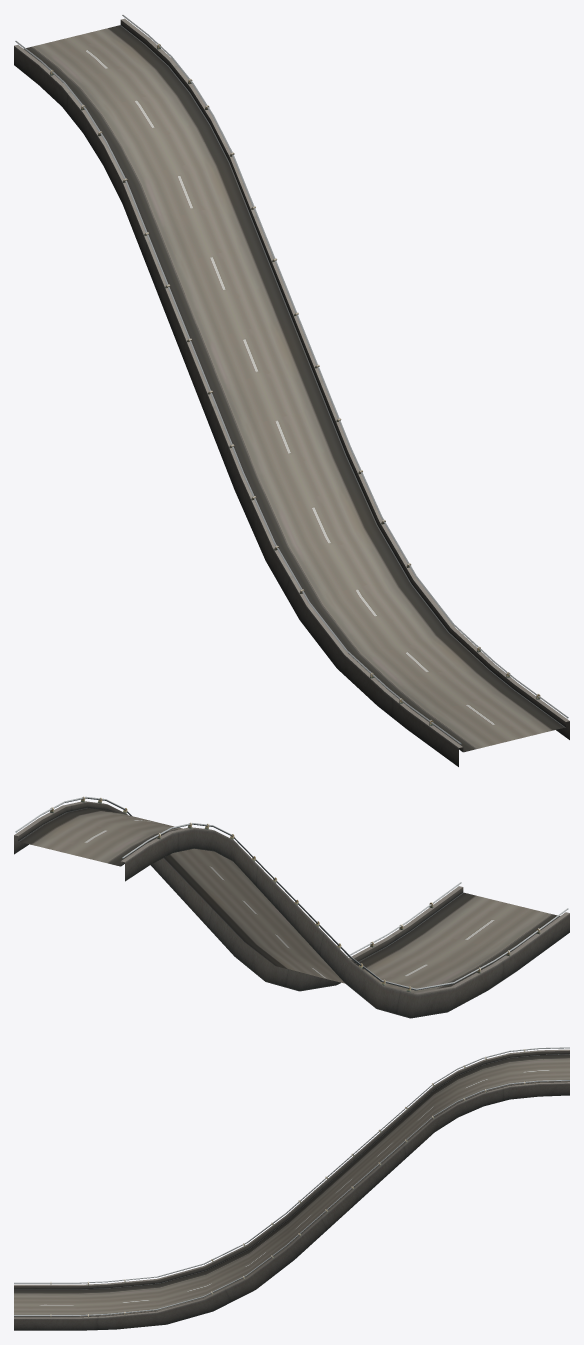
File: Track3.FBX
3 renders of one model, top to bottom at view 1: azimuth 30°, elevation 25°; view 2: azimuth 150°, elevation 25°; view 3: azimuth 270°, elevation 25°, orthographic. The views are drawn at different scales.
Visible parts, largest first — view 1: Road001; view 2: Road001; view 3: Road001.
Boxes of the visible parts, x1,y1,x2,y2 form: Road001: [14, 15, 569, 766]; Road001: [14, 796, 569, 1018]; Road001: [14, 1047, 569, 1330].
Size of the model in its own units: 425 by 1468 by 2955.
Materials: 1 (1 with a texture image).
